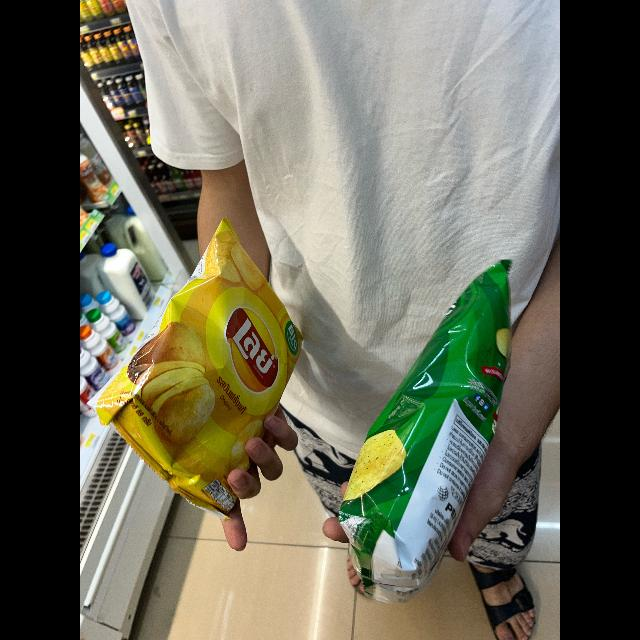snack_bag: (90, 221, 328, 519), (336, 252, 526, 606)
